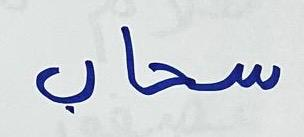alef: (110, 20, 142, 104)
beh: (26, 55, 105, 120)
hah: (145, 45, 206, 103)
seen: (209, 46, 288, 103)
